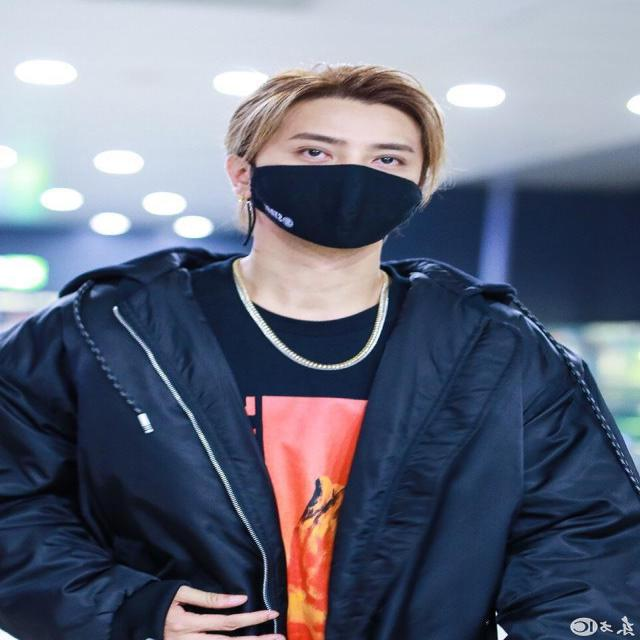face: (244, 101, 435, 253)
